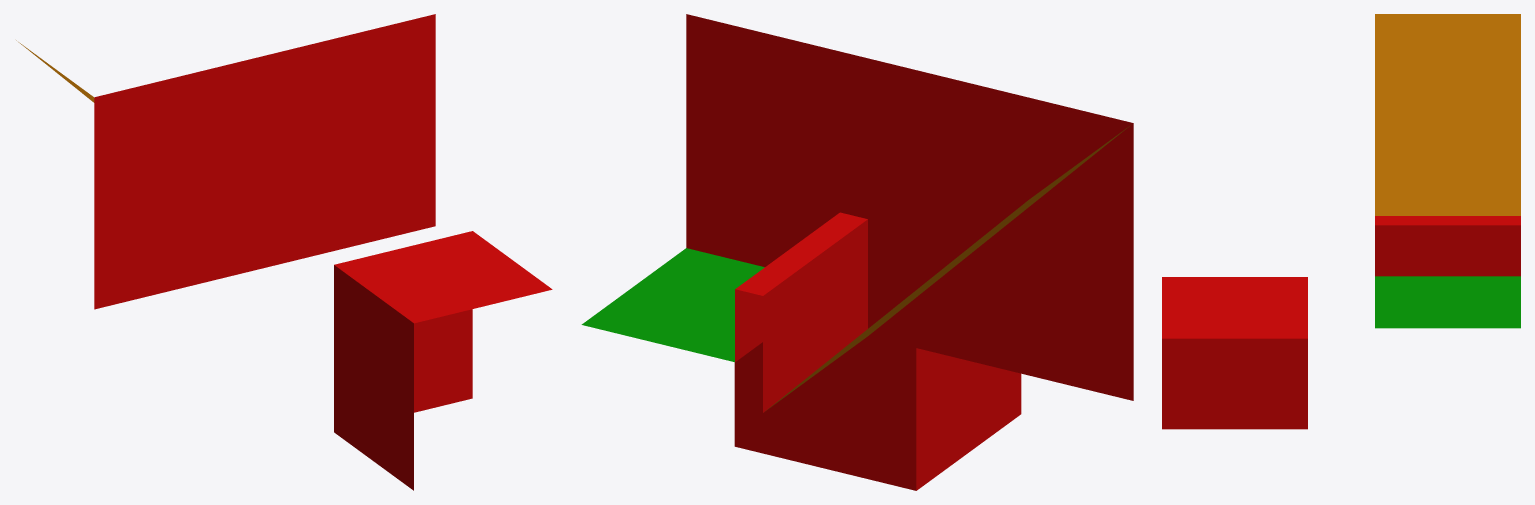
3 renders of one model, left to right at view 1: azimuth 30°, elevation 25°; view 2: azimuth 150°, elevation 25°; view 3: azimuth 270°, elevation 25°, orthographic. The views are drawn at different scales.
Visible parts, largest first — view 1: None_W_E_E_A_S_A_E_A_None; view 2: None_W_E_E_A_S_A_E_A_None; view 3: None_W_E_E_A_S_A_E_A_None.
Boxes of the visible parts, <box> form: None_W_E_E_A_S_A_E_A_None: <box>16,14,552,490</box>; None_W_E_E_A_S_A_E_A_None: <box>581,14,1133,490</box>; None_W_E_E_A_S_A_E_A_None: <box>1162,14,1520,429</box>.
Bounding box in the file's own units: 100 × 100 × 100.
